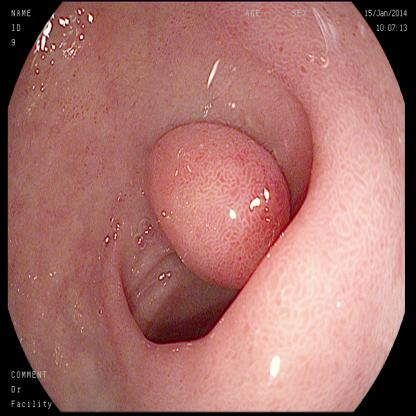Labels: (9, 1, 57, 66), (11, 364, 60, 412)
Polyps: (146, 130, 283, 270)
